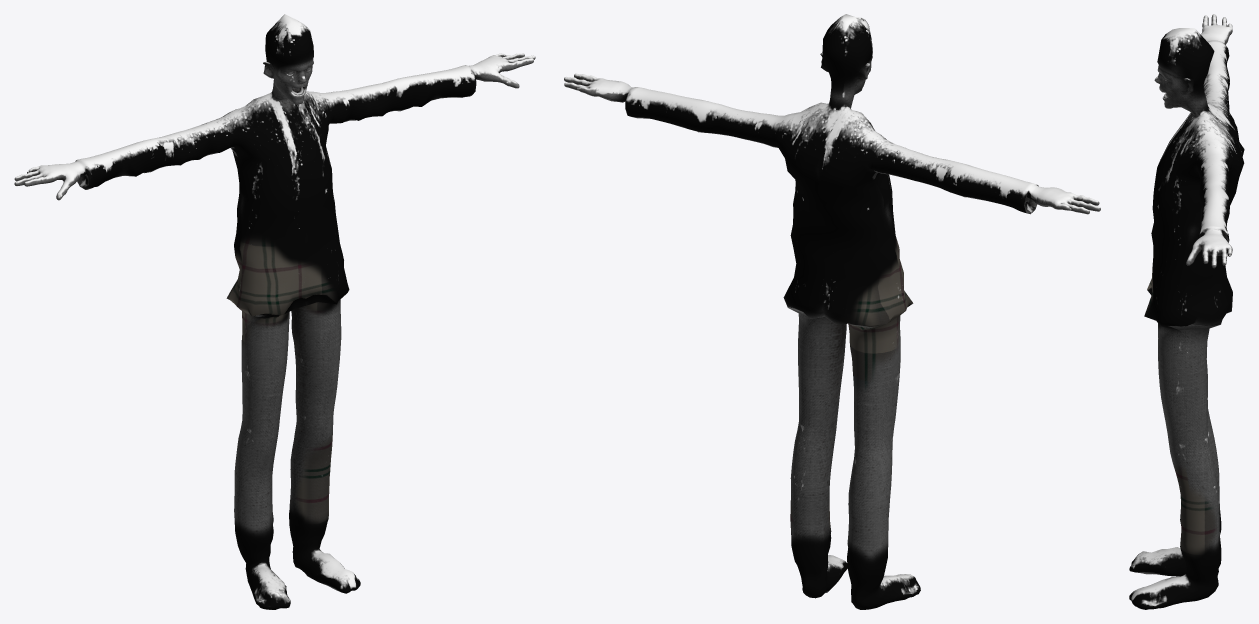
Rendered from Prisoner.fbx.
3 renders of one model, left to right at view 1: azimuth 30°, elevation 25°; view 2: azimuth 150°, elevation 25°; view 3: azimuth 270°, elevation 25°, orthographic. The views are drawn at different scales.
Visible parts, largest first — view 1: Prisoner_0; view 2: Prisoner_0; view 3: Prisoner_0.
Boxes of the visible parts, left/top/right/bottom form: Prisoner_0: left=14, top=14, right=535, bottom=609; Prisoner_0: left=564, top=14, right=1100, bottom=609; Prisoner_0: left=1129, top=14, right=1244, bottom=609.
Bounding box in the file's own units: 199 × 207 × 38.62.
